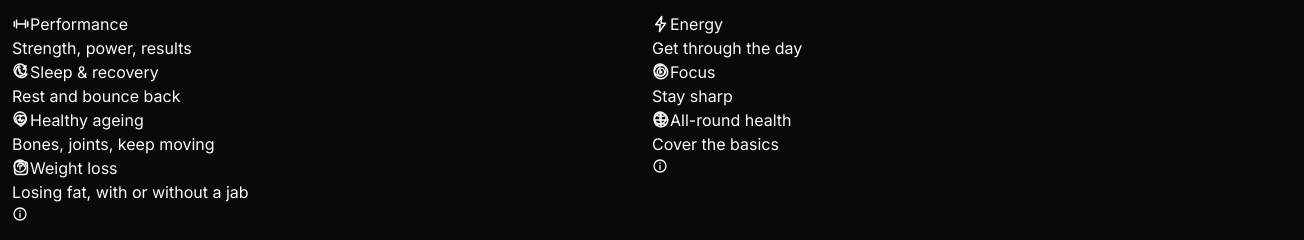
Test: C2 goal tiles › numbers goals in the order tapped
This screenshot has width=1304, height=240.
What coordinates should you click on to do the following:
click the button "Focus Stay sharp"
I would click on:
 (693, 72)
Its box is 652,60 -> 1292,108.
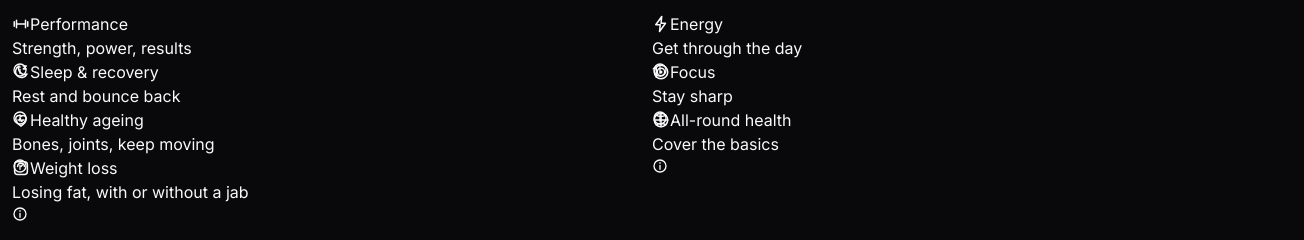
What coordinates should you click on to do the following:
click the button "Performance Strength, power, results"
I would click on:
 (79, 24)
Its box is 12,12 -> 652,60.
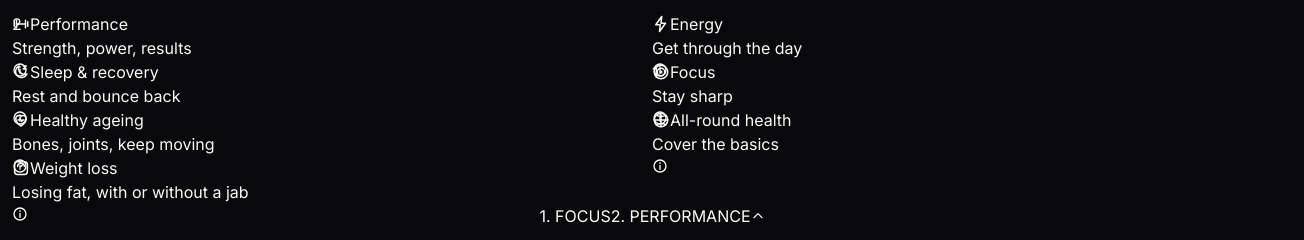
Now the button "Performance Strength, power, results 2" is shown, box 12,12 -> 652,60
